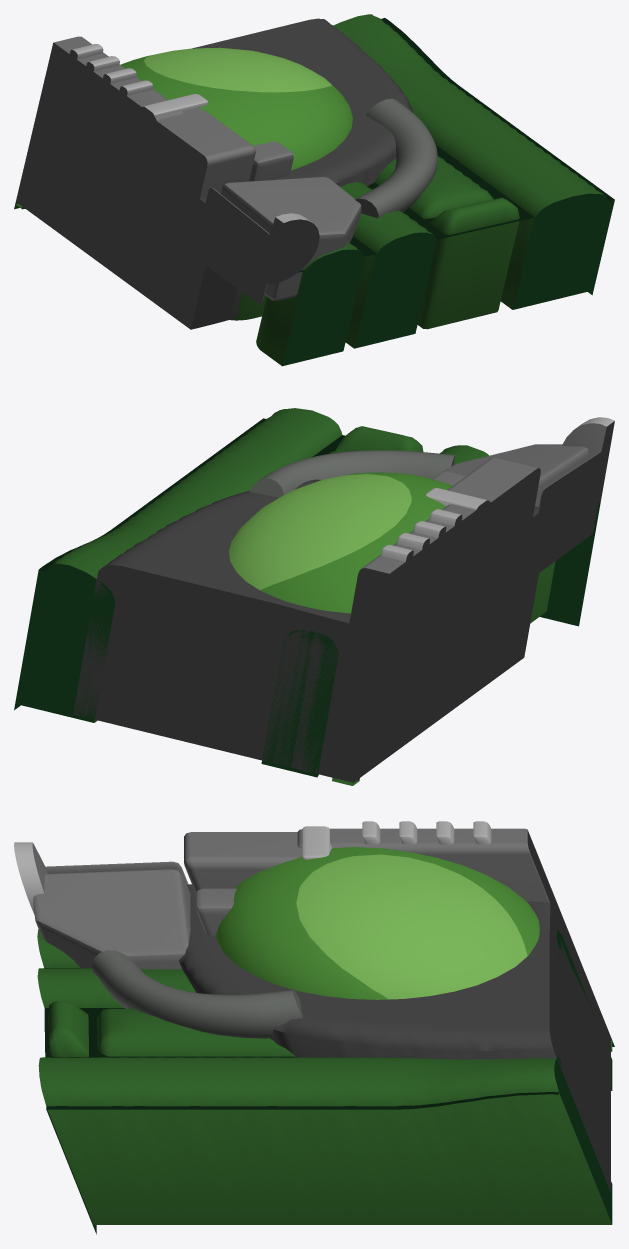
Rendered from green_shell_201.glb.
3 renders of one model, top to bottom at view 1: azimuth 30°, elevation 25°; view 2: azimuth 150°, elevation 25°; view 3: azimuth 270°, elevation 25°, orthographic. The views are drawn at different scales.
Parts seen in each view (by area): view 1: green_shell_201; view 2: green_shell_201; view 3: green_shell_201.
Part boxes in pixels (left/top/right/bottom): green_shell_201: left=14, top=14, right=614, bottom=366; green_shell_201: left=14, top=408, right=614, bottom=785; green_shell_201: left=14, top=821, right=614, bottom=1234.
Bounding box in the file's own units: 24 × 13.45 × 32.46.
